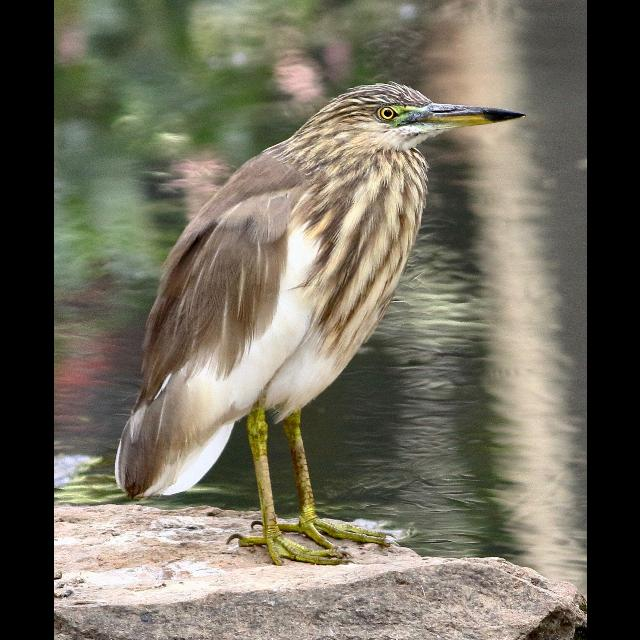heron: (121, 79, 525, 564)
